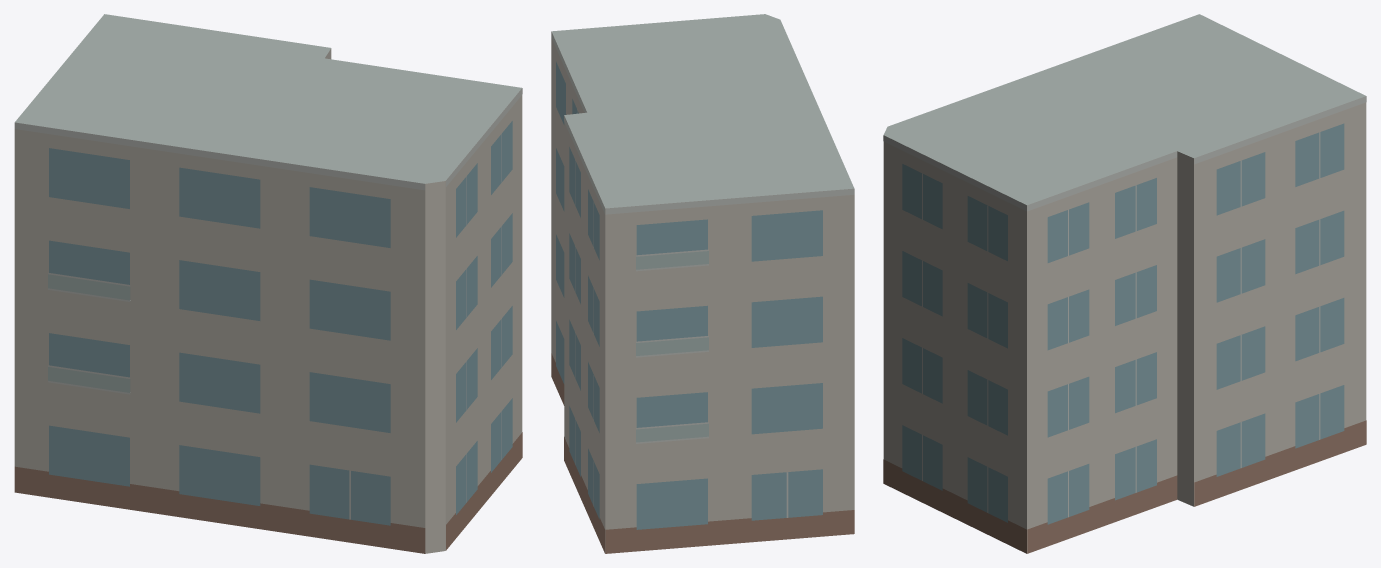
The model's file is survey-upis-32924248.glb.
The picture shows the model from 3 angles, left to right: view 1: azimuth 30°, elevation 25°; view 2: azimuth 150°, elevation 25°; view 3: azimuth 270°, elevation 25°; orthographic projection. The views are drawn at different scales.
Visible parts, largest first — view 1: survey-upis-32924248.tmp; view 2: survey-upis-32924248.tmp; view 3: survey-upis-32924248.tmp.
Part boxes in pixels (x1=…): survey-upis-32924248.tmp: x1=14, y1=14, x2=522, y2=553; survey-upis-32924248.tmp: x1=551, y1=14, x2=854, y2=553; survey-upis-32924248.tmp: x1=883, y1=14, x2=1366, y2=553.
Bounding box in the file's own units: 16.14 × 13.7 × 17.21.
